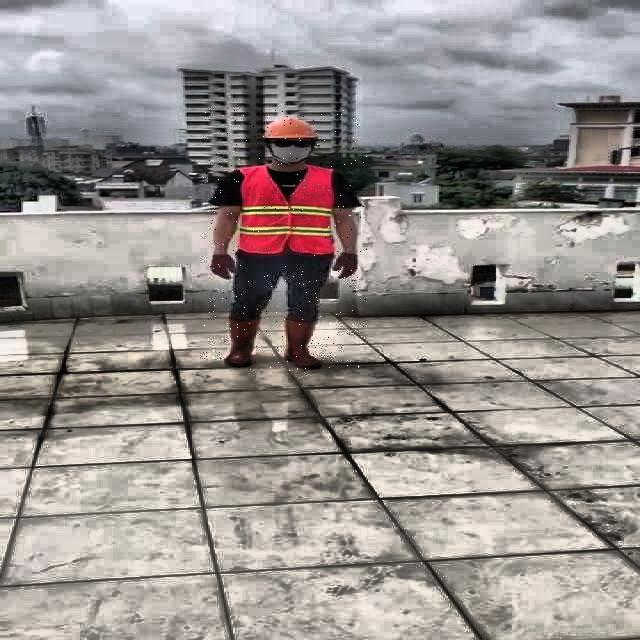safety_helmet: (262, 116, 316, 139)
safety_jacket: (240, 166, 334, 254)
